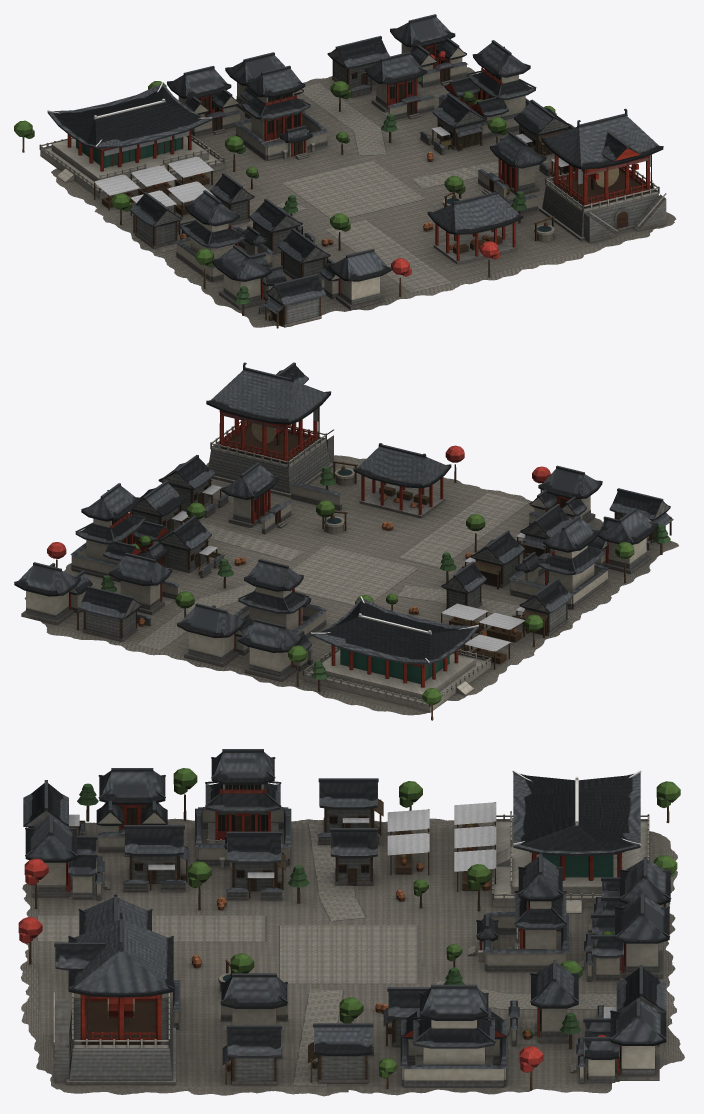
File: kingdoms-town-medium-b-korea.glb
3 views of the same model, one above another, from view 1: azimuth 30°, elevation 25°; view 2: azimuth 150°, elevation 25°; view 3: azimuth 270°, elevation 25° (orthographic). The views are drawn at different scales.
Parts seen in each view (by area): view 1: LOD0; view 2: LOD0; view 3: LOD0.
Part boxes in pixels (bbox=[...]): LOD0: bbox=[14, 14, 676, 328]; LOD0: bbox=[14, 362, 678, 720]; LOD0: bbox=[18, 749, 684, 1096].
Size of what is drawn, in the model's own units: 6.04 by 1.33 by 6.09.
Materials: 3 (3 with a texture image).
